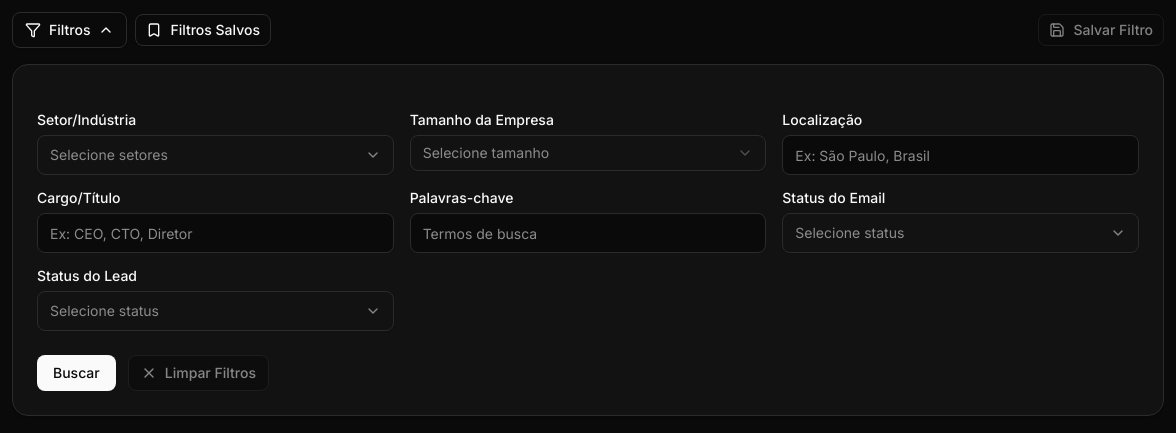
FilterPanel Email Status Filter (Story 3.5.1) › opens dropdown and shows all email status options
Click the button with test id "email-status-select": [850, 232] box [782,213,1139,253]
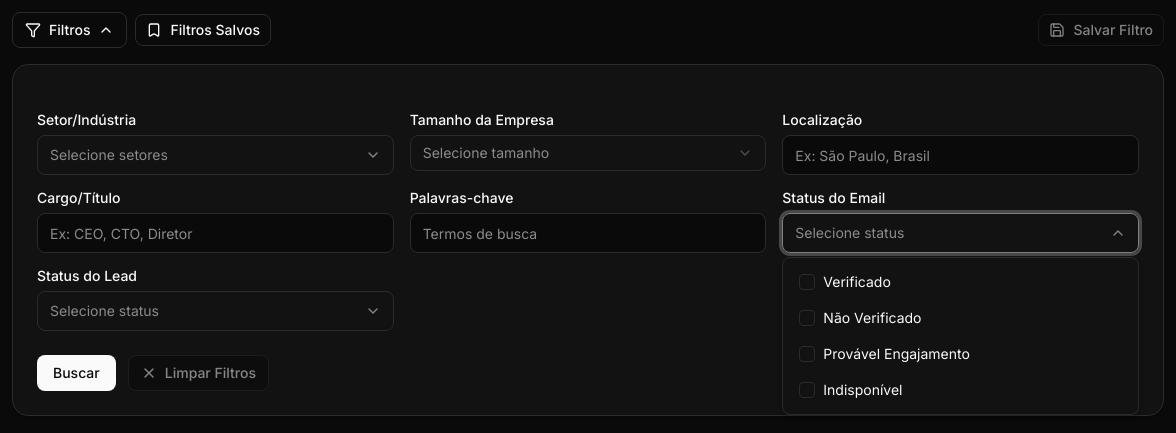
Expected: the text "Verificado" is shown, [823,272,891,292]
Expected: the text "Não Verificado" is shown, [823,308,922,328]
Expected: the text "Provável Engajamento" is shown, [823,344,970,364]
